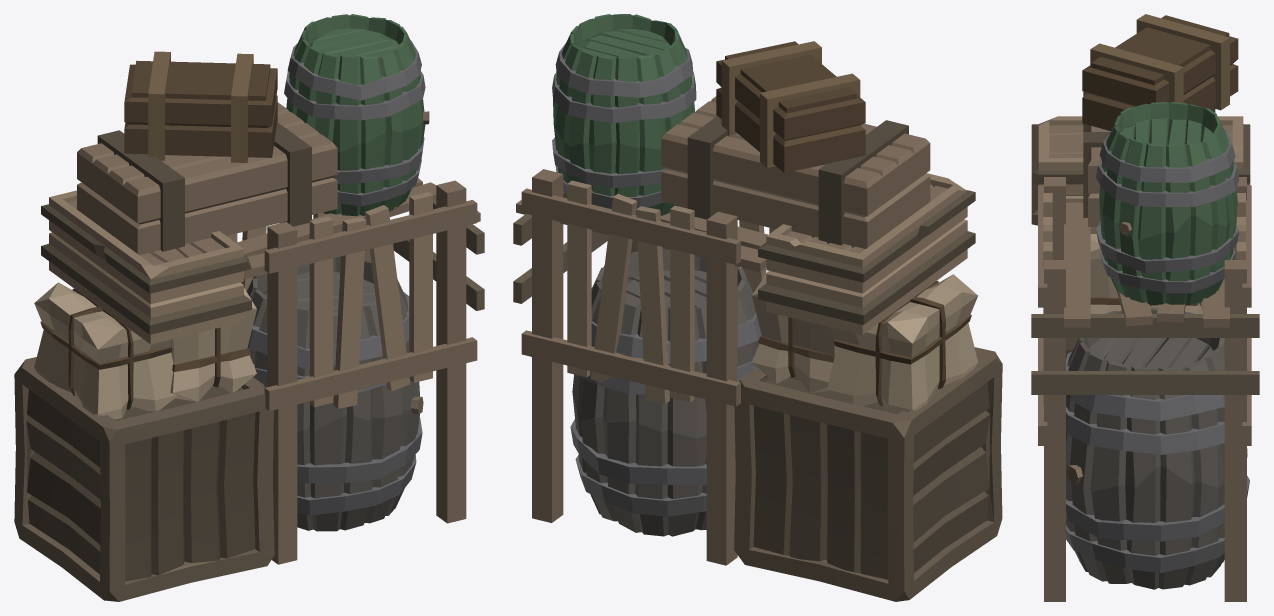
Rendered from Stack1.fbx.
3 views of the same model, side by side, from view 1: azimuth 30°, elevation 25°; view 2: azimuth 150°, elevation 25°; view 3: azimuth 270°, elevation 25° (orthographic). The views are drawn at different scales.
Parts seen in each view (by area): view 1: SM_Prop_Stack_07; view 2: SM_Prop_Stack_07; view 3: SM_Prop_Stack_07.
Part boxes in pixels (left/top/right/bottom): SM_Prop_Stack_07: left=14, top=14, right=484, bottom=601; SM_Prop_Stack_07: left=513, top=14, right=1002, bottom=601; SM_Prop_Stack_07: left=1031, top=14, right=1259, bottom=601.
Bounding box in the file's own units: 193 × 220 × 99.79.
Materials: 1 (1 with a texture image).
